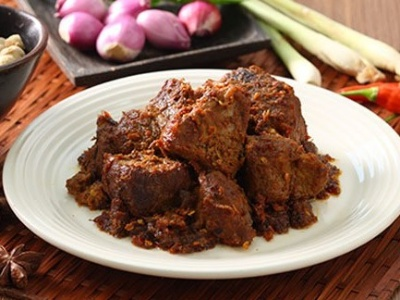rendang: (85, 74, 323, 229)
